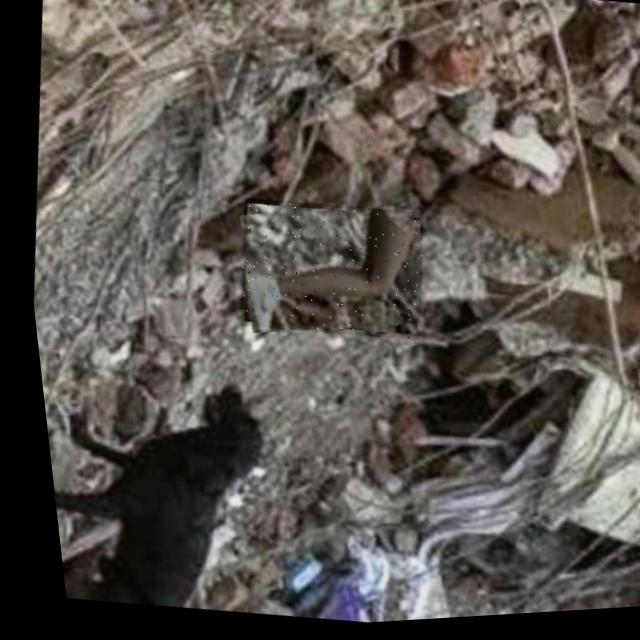Person in Rubble: (221, 193, 428, 354)
